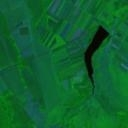alloviz: (82, 23, 110, 93)
